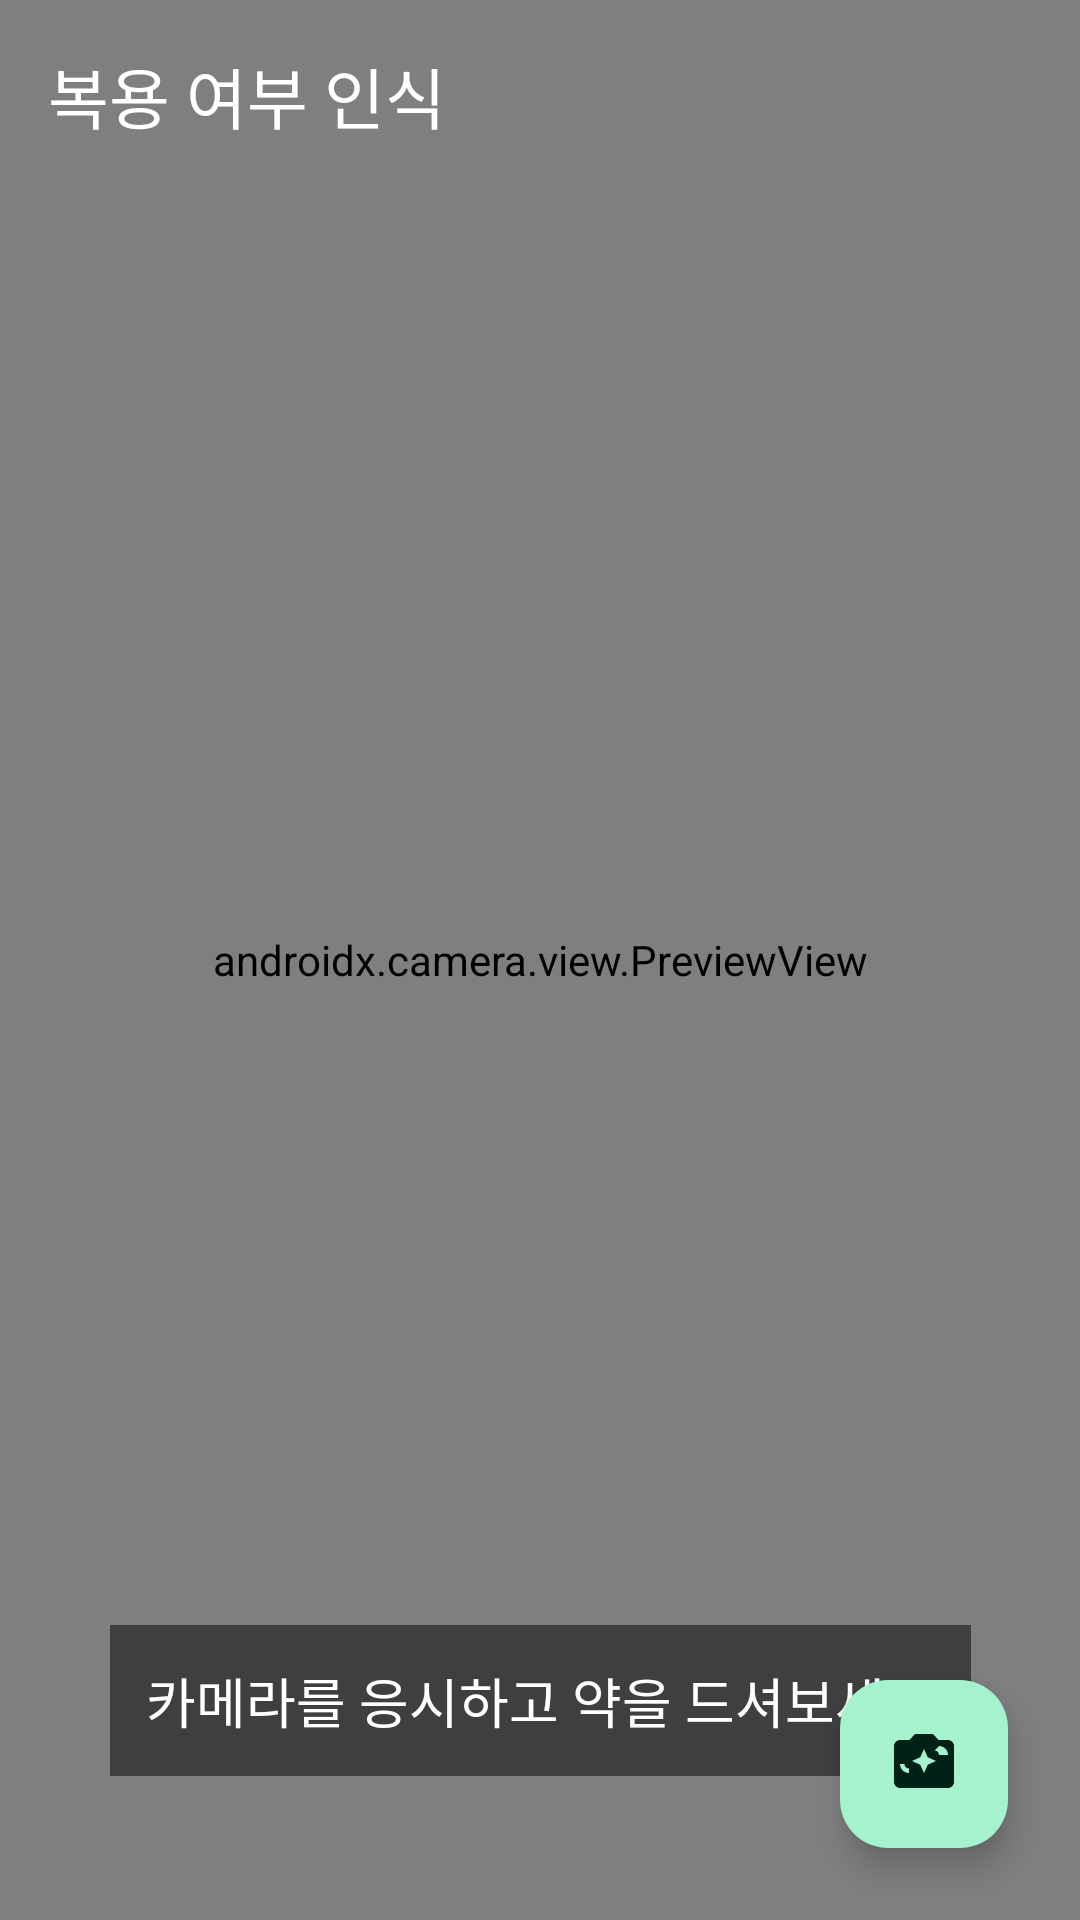

Where to tap for icons on this 1080x1920 app screen, as (x=x, y=y):
전면/후면 카메라 전환: (x=924, y=1764)
